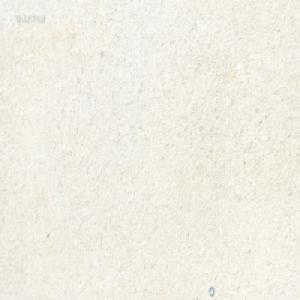Washer: (208, 285, 214, 296)
